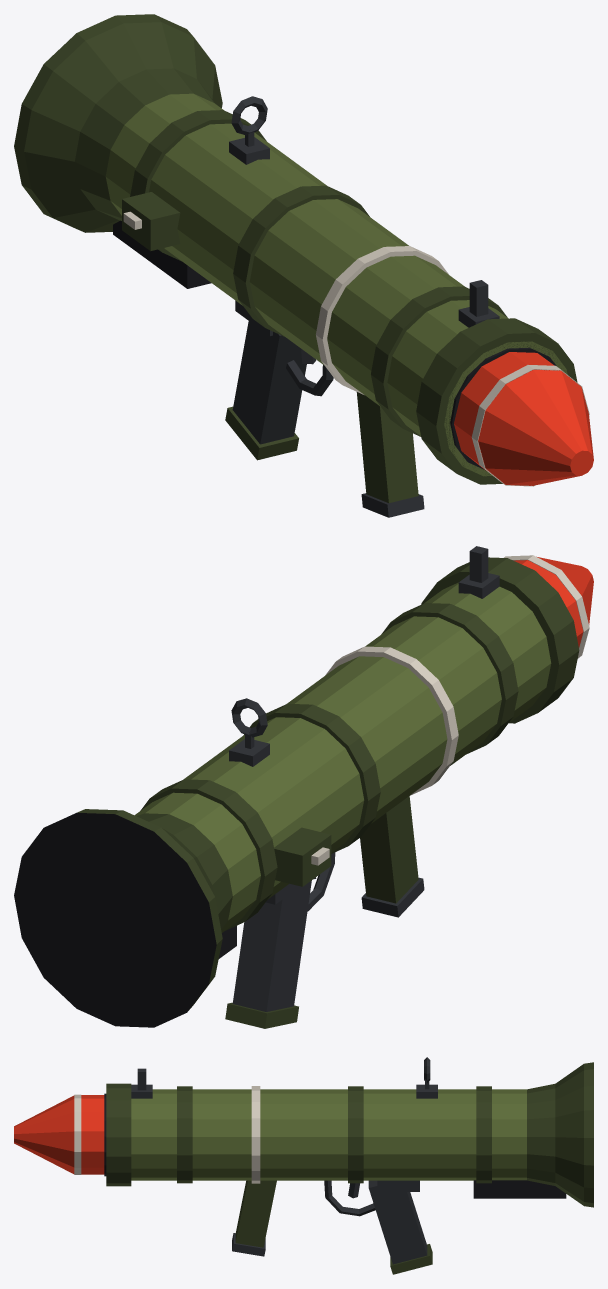
The model's file is Rocket.obj.
The picture shows the model from 3 angles, top to bottom: view 1: azimuth 30°, elevation 25°; view 2: azimuth 150°, elevation 25°; view 3: azimuth 270°, elevation 25°; orthographic projection. The views are drawn at different scales.
Visible parts, largest first — view 1: Rocket; view 2: Rocket; view 3: Rocket.
Boxes of the visible parts, box(x1,y1,x2,y2) form: Rocket: box(14, 14, 593, 517); Rocket: box(14, 546, 593, 1028); Rocket: box(14, 1057, 593, 1274).
Bounding box in the file's own units: 0.204 × 0.3255 × 0.8135.
